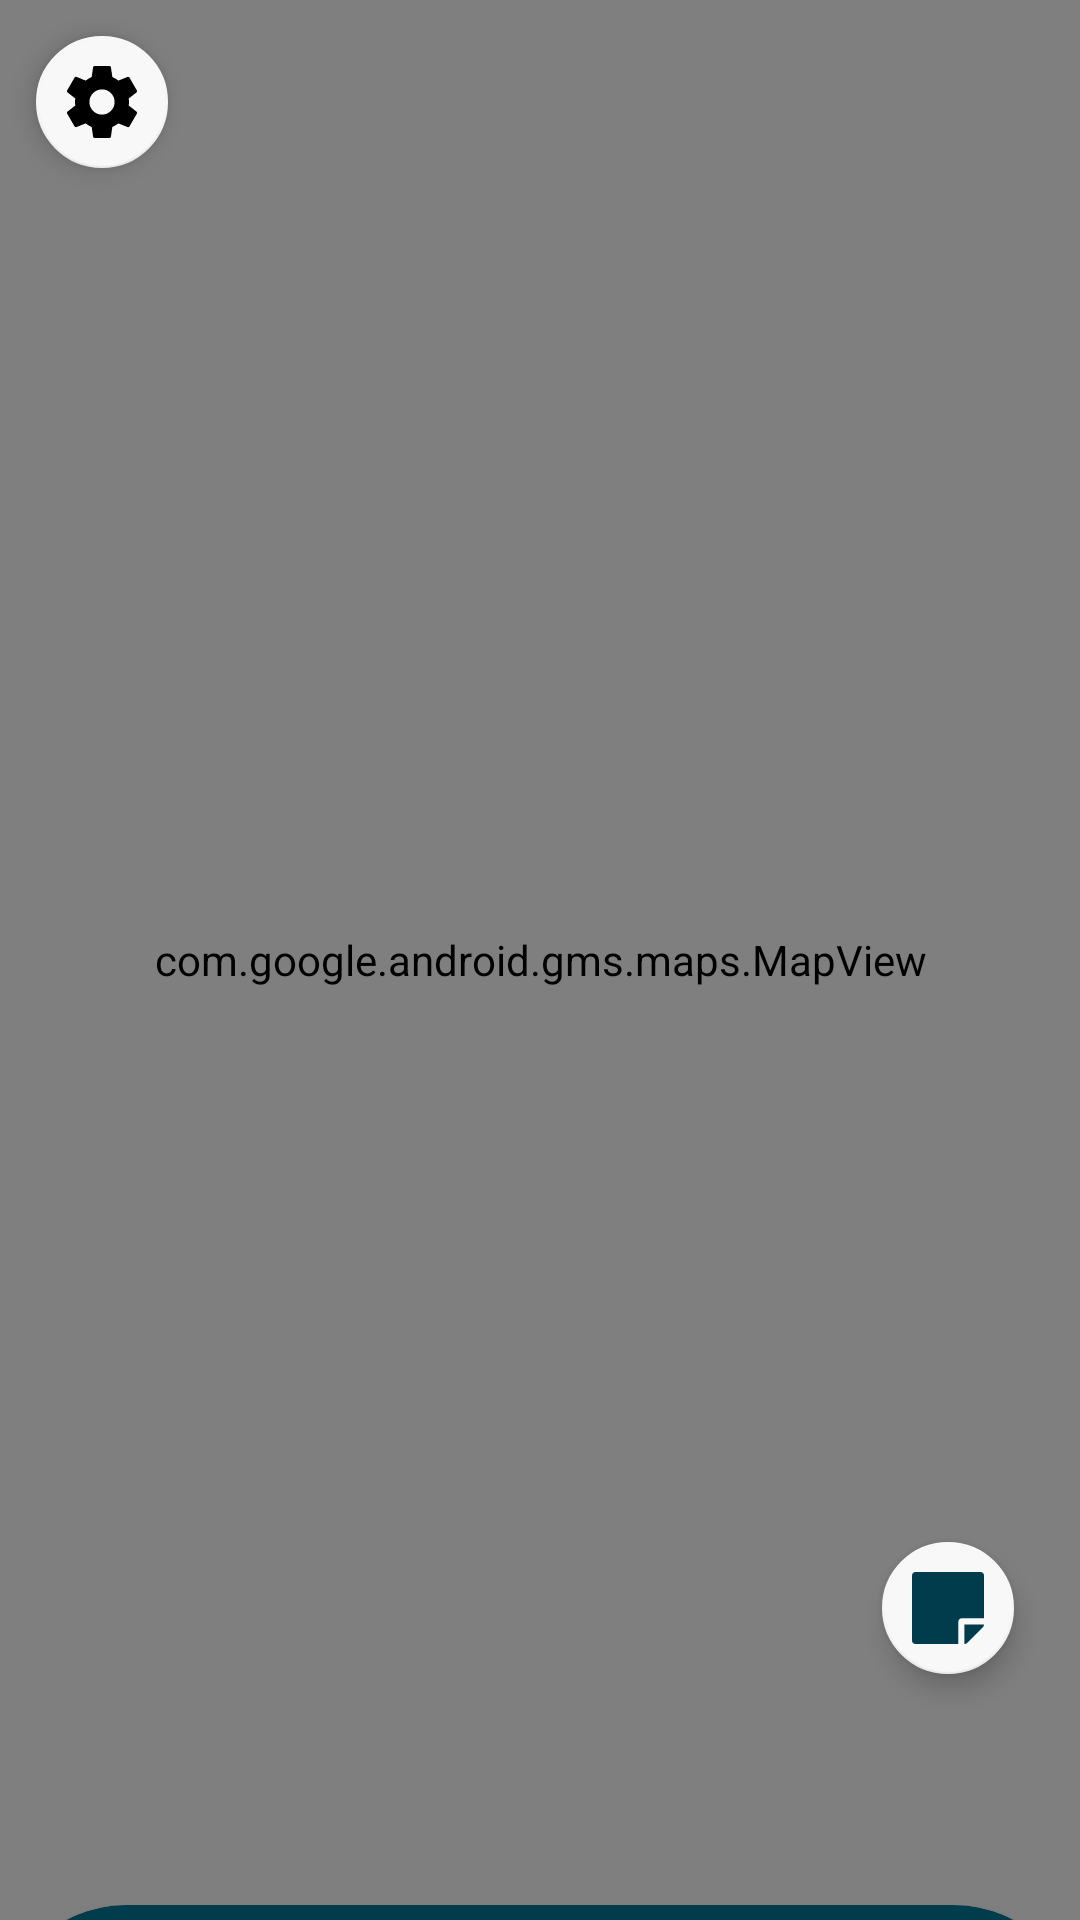

Icons on this 1080 × 1920 Android screen, each with the point to tap as [x,y]:
gear: [102,102]
notes: [948,1608]
